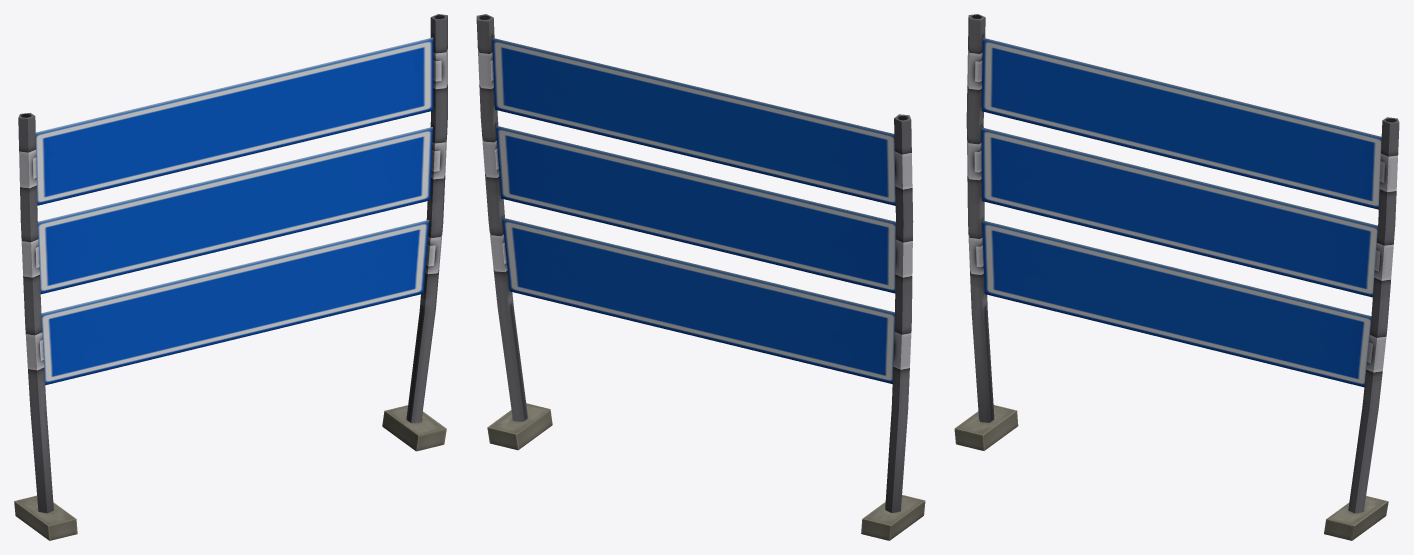
Rendered from StationNaamBord_MENU_Languages_2.FBX.
The picture shows the model from 3 angles, left to right: view 1: azimuth 30°, elevation 25°; view 2: azimuth 150°, elevation 25°; view 3: azimuth 330°, elevation 25°; orthographic projection.
Parts seen in each view (by area): view 1: StationsNaambord; view 2: StationsNaambord; view 3: StationsNaambord.
Boxes of the visible parts, bbox=[...] form: StationsNaambord: bbox=[14, 14, 447, 540]; StationsNaambord: bbox=[476, 14, 925, 540]; StationsNaambord: bbox=[954, 14, 1399, 540].
Size of the model in its own units: 150 by 137 by 20.6.
Materials: 1 (1 with a texture image).
